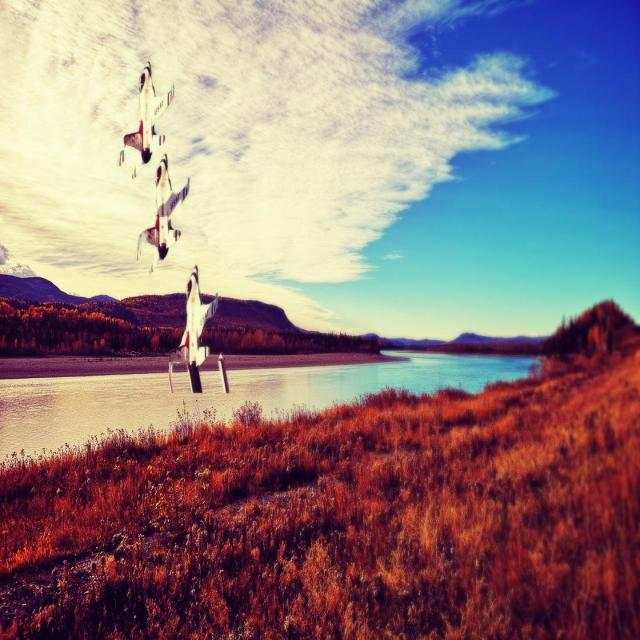airplane: (167, 264, 219, 394), (118, 60, 174, 179), (136, 153, 190, 274)
